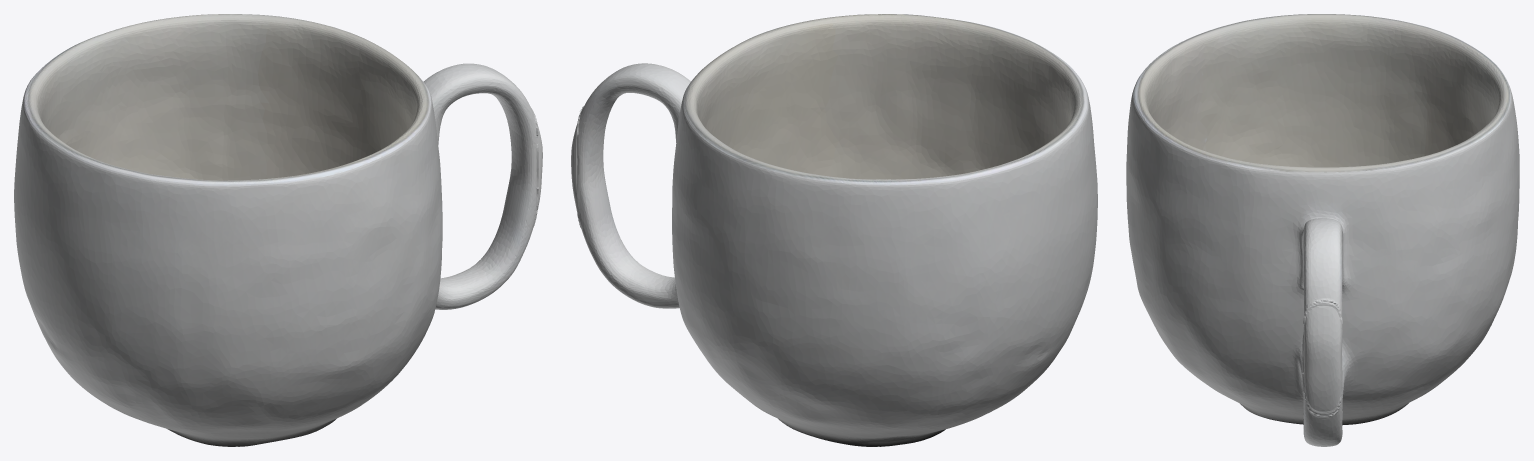
3 views of the same model, side by side, from view 1: azimuth 30°, elevation 25°; view 2: azimuth 150°, elevation 25°; view 3: azimuth 270°, elevation 25° (orthographic). The views are drawn at different scales.
Parts seen in each view (by area): view 1: tmpvhyll_z8.ply; view 2: tmpvhyll_z8.ply; view 3: tmpvhyll_z8.ply.
Boxes of the visible parts, <box> form: tmpvhyll_z8.ply: <box>14,14,542,446</box>; tmpvhyll_z8.ply: <box>571,14,1097,446</box>; tmpvhyll_z8.ply: <box>1126,14,1519,446</box>.
Bounding box in the file's own units: 1 × 0.6033 × 0.7403.
1 material, 1 textured.
